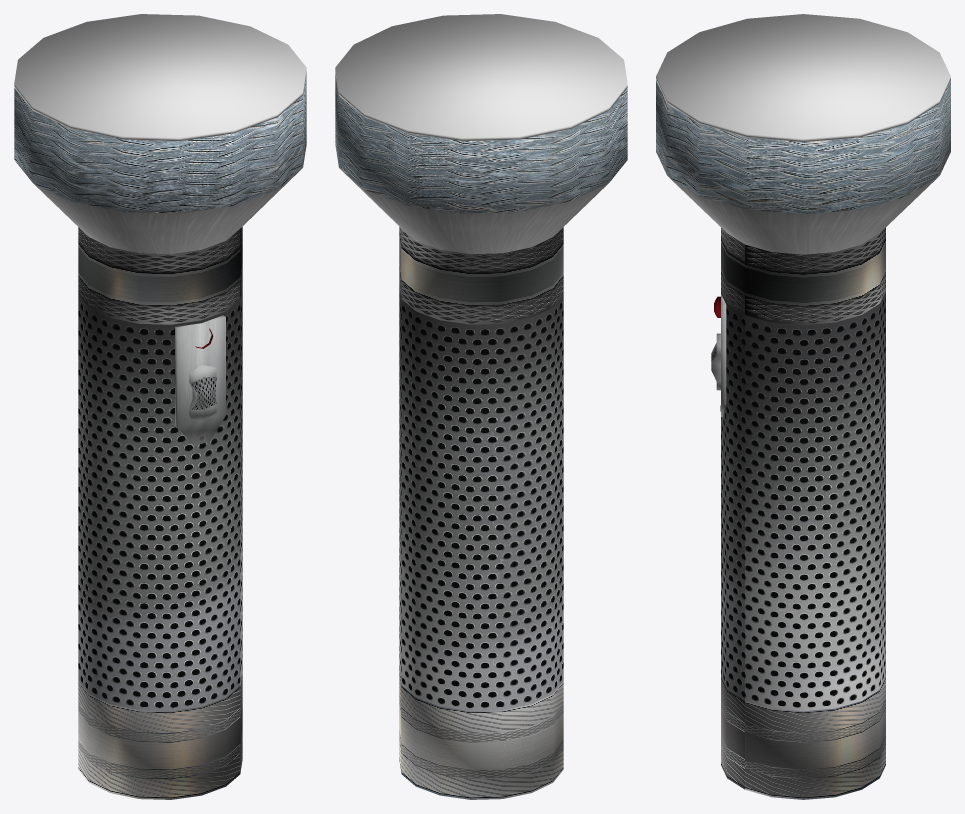
The model's file is Flash.fbx.
3 renders of one model, left to right at view 1: azimuth 30°, elevation 25°; view 2: azimuth 150°, elevation 25°; view 3: azimuth 270°, elevation 25°, orthographic.
Visible parts, largest first — view 1: Cylinder.019; view 2: Cylinder.019; view 3: Cylinder.019.
Boxes of the visible parts, x1,y1,x2,y2 form: Cylinder.019: (14,14,306,799); Cylinder.019: (335,14,627,799); Cylinder.019: (656,14,950,799).
Bounding box in the file's own units: 5.74 × 5.74 × 14.79.
10 materials, 6 textured.
